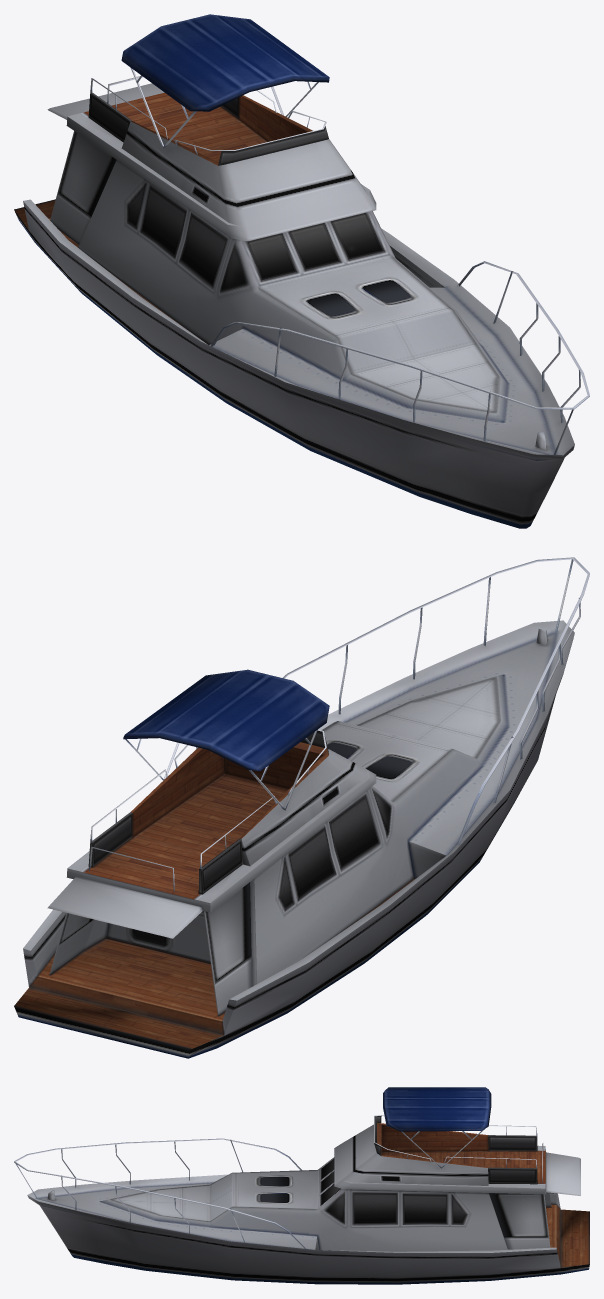
Rendered from yatch.fbx.
3 renders of one model, top to bottom at view 1: azimuth 30°, elevation 25°; view 2: azimuth 150°, elevation 25°; view 3: azimuth 270°, elevation 25°, orthographic. The views are drawn at different scales.
Parts seen in each view (by area): view 1: Yatch; view 2: Yatch; view 3: Yatch.
Boxes of the visible parts, bbox=[...] form: Yatch: bbox=[14, 14, 589, 528]; Yatch: bbox=[14, 557, 589, 1058]; Yatch: bbox=[14, 1087, 589, 1284].
Bounding box in the file's own units: 6.04 × 5.97 × 19.09.
Materials: 1 (1 with a texture image).
